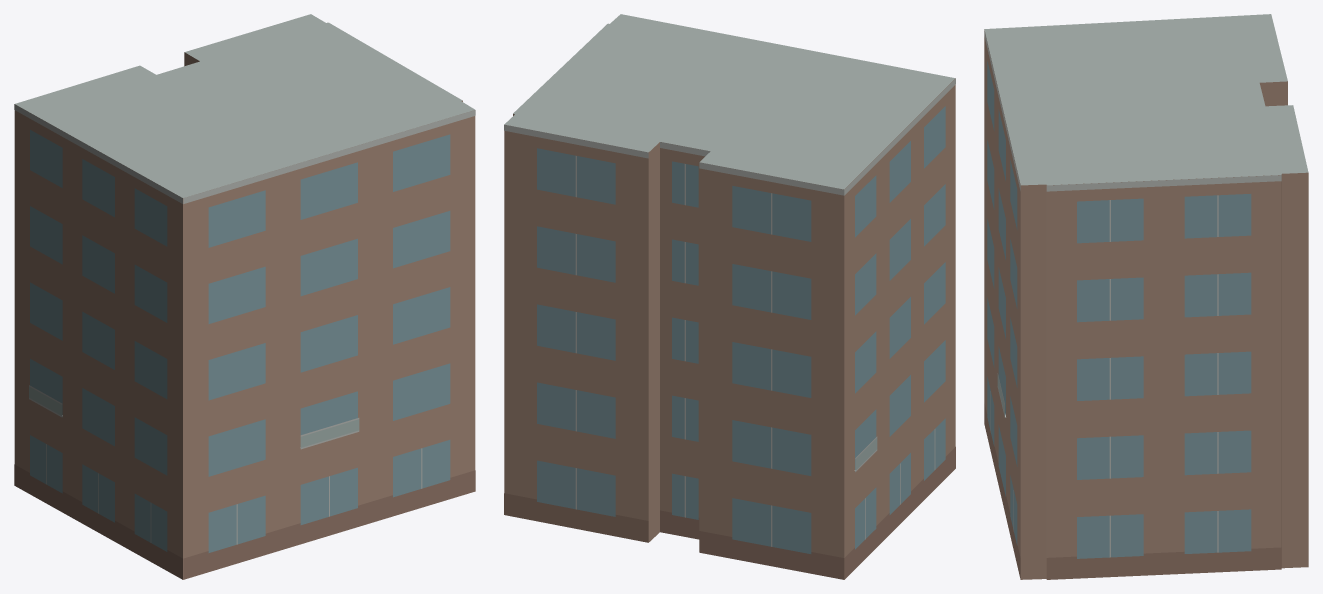
File: survey-upis-33001452.glb
3 views of the same model, side by side, from view 1: azimuth 30°, elevation 25°; view 2: azimuth 150°, elevation 25°; view 3: azimuth 270°, elevation 25° (orthographic). The views are drawn at different scales.
Parts seen in each view (by area): view 1: survey-upis-33001452.tmp; view 2: survey-upis-33001452.tmp; view 3: survey-upis-33001452.tmp.
Boxes of the visible parts, x1,y1,x2,y2 form: survey-upis-33001452.tmp: (14,14,475,579); survey-upis-33001452.tmp: (504,14,955,579); survey-upis-33001452.tmp: (984,14,1308,579).
Bounding box in the file's own units: 14.45 × 15.5 × 11.56.
